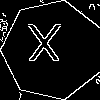X: (28, 25, 61, 70)
